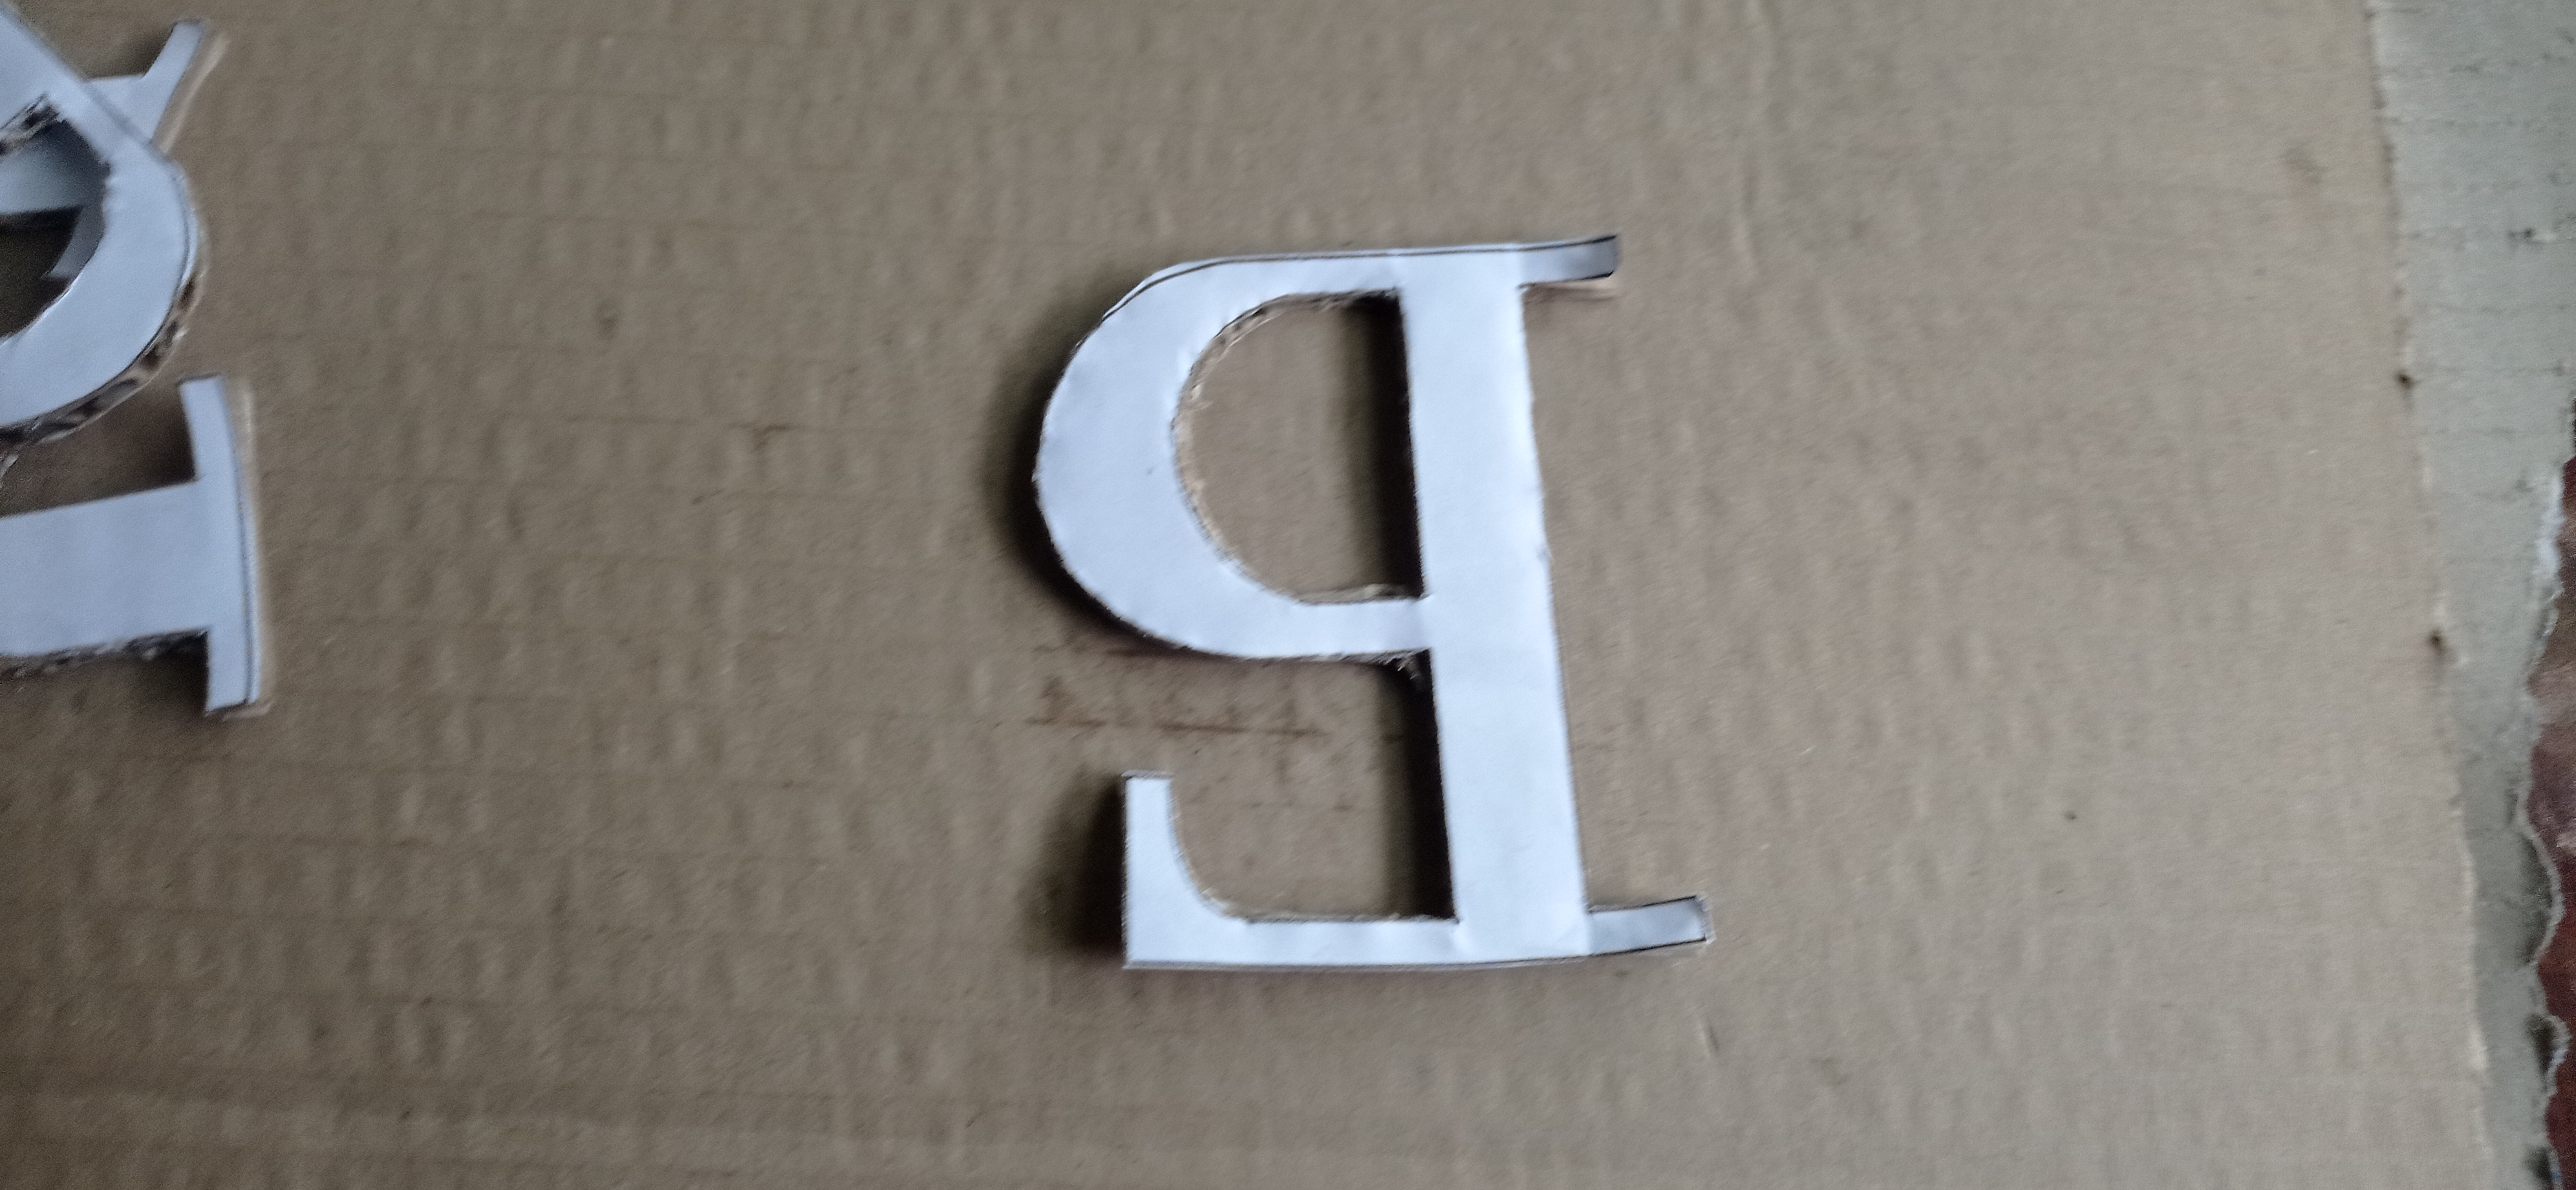b: (1037, 232, 1712, 968)
